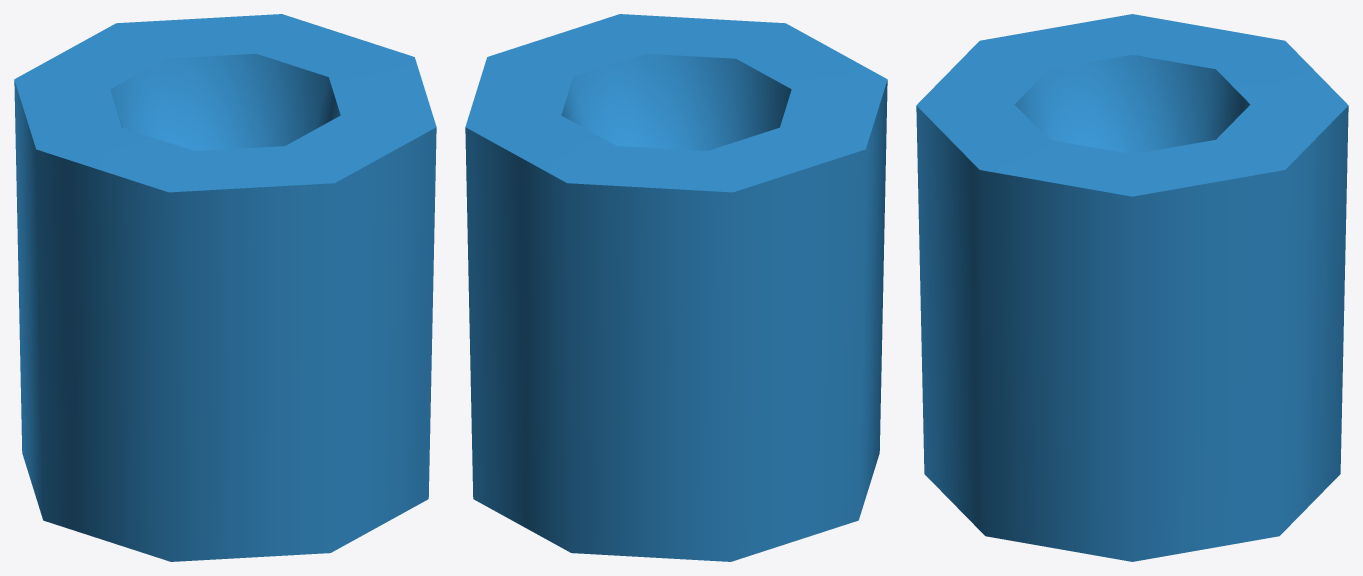
Rendered from urn01_s01.FBX.
3 views of the same model, side by side, from view 1: azimuth 30°, elevation 25°; view 2: azimuth 150°, elevation 25°; view 3: azimuth 270°, elevation 25° (orthographic).
Visible parts, largest first — view 1: urn01_s01; view 2: urn01_s01; view 3: urn01_s01.
Boxes of the visible parts, left/top/right/bottom form: urn01_s01: left=14, top=14, right=436, bottom=561; urn01_s01: left=465, top=14, right=887, bottom=561; urn01_s01: left=916, top=14, right=1348, bottom=561.
Size of the model in its own units: 70.62 by 70.62 by 66.6.
1 material, 1 textured.
